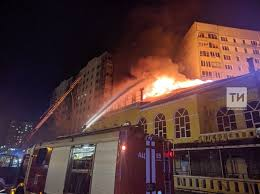fire: (121, 67, 220, 111)
